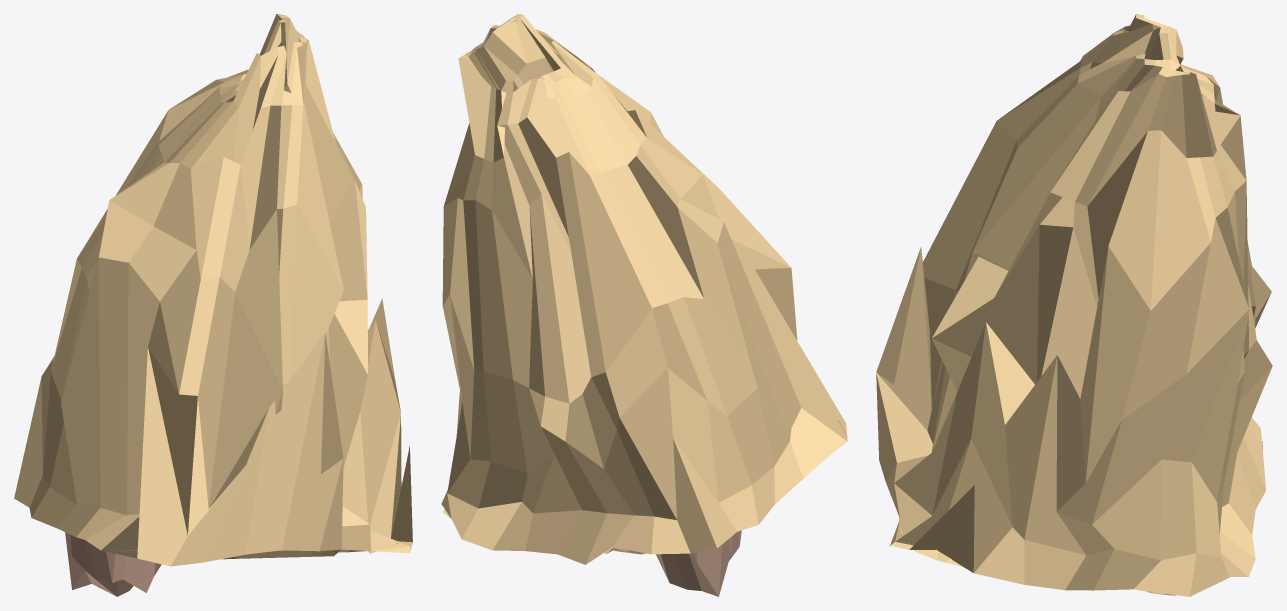
The model's file is stone2.gltf.
The picture shows the model from 3 angles, left to right: view 1: azimuth 30°, elevation 25°; view 2: azimuth 150°, elevation 25°; view 3: azimuth 270°, elevation 25°; orthographic projection. The views are drawn at different scales.
Parts seen in each view (by area): view 1: Plane.005; view 2: Plane.005; view 3: Plane.005.
Part boxes in pixels (box(x1,y1,x2,y2)): Plane.005: box(14, 14, 412, 596); Plane.005: box(441, 14, 847, 596); Plane.005: box(876, 14, 1272, 596).
Bounding box in the file's own units: 3.54 × 5.54 × 3.33.
